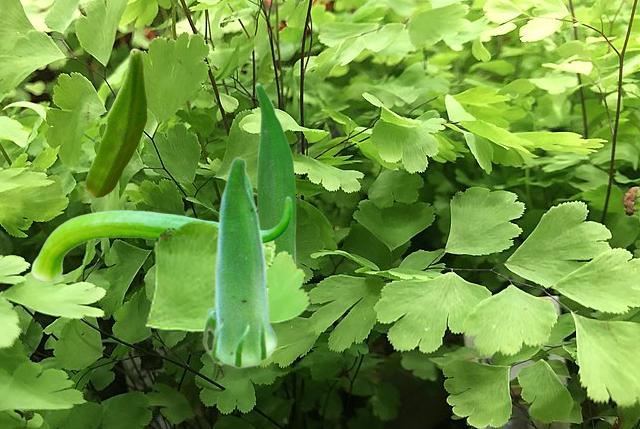okra: (31, 196, 291, 280), (202, 156, 277, 368), (85, 48, 146, 196), (255, 82, 295, 260)
